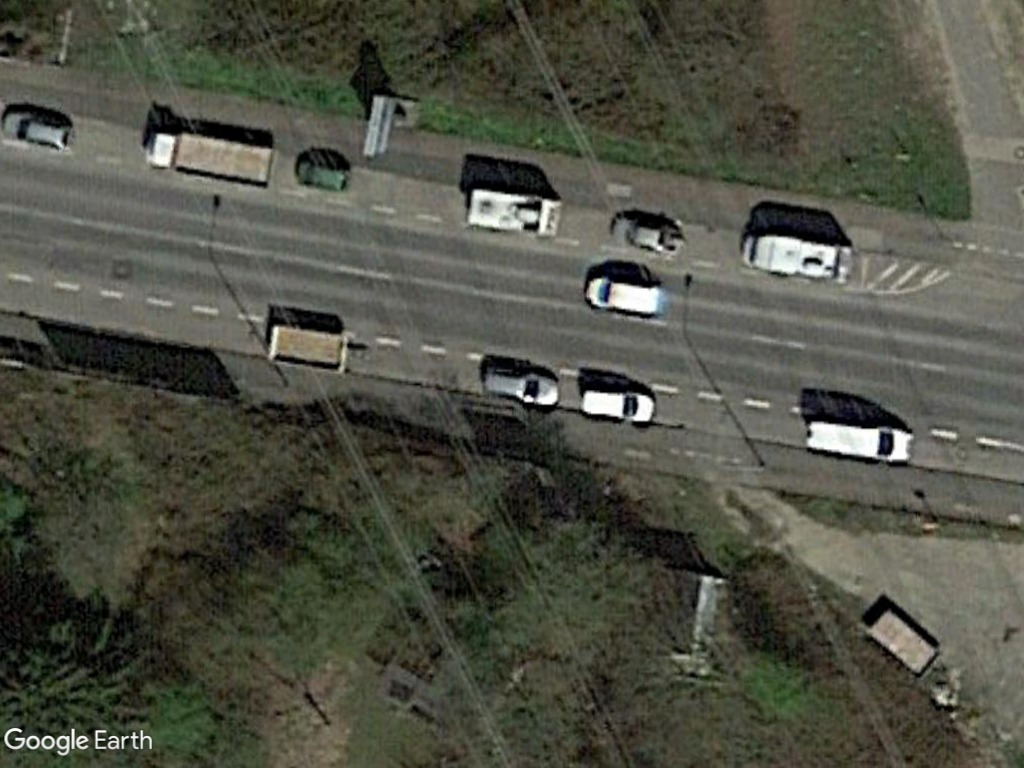van: (798, 411, 916, 470), (578, 269, 668, 319), (477, 363, 564, 410), (578, 384, 658, 427)
